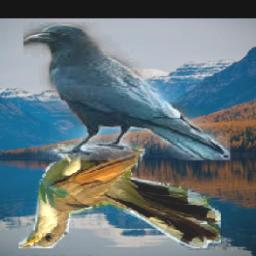Crow: (25, 23, 231, 161)
Cuckoo: (20, 144, 222, 248)
